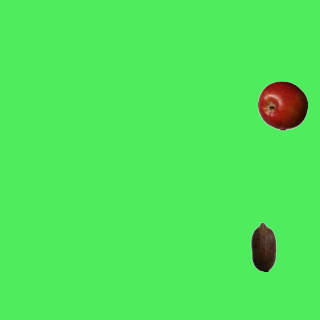Apple Braeburn: (257, 80, 307, 130)
Nut Pecan: (238, 221, 288, 271)
